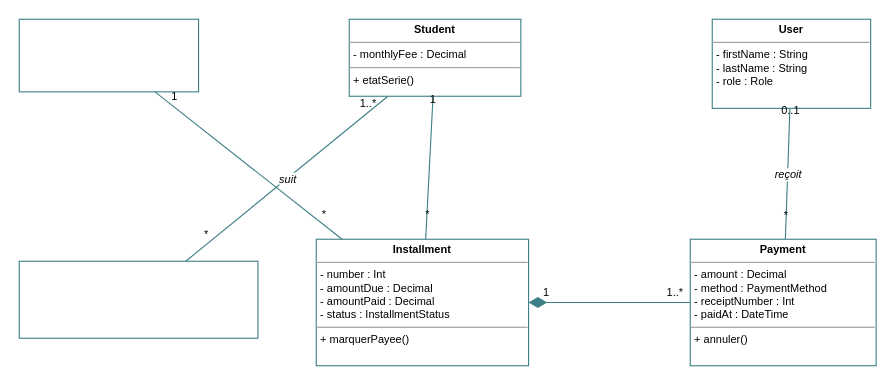
Some shapes in this 895 by 385 pixel diagram are drawn without their labels. Here are the shapes that lost their labels. From the top down, the centre of each, then its label:
point 108,55: Group - monthlySessions : Int - monthlyFee : Decimal
point 138,299: Parent - notificationPreferences : Json + suivreEnfant()
